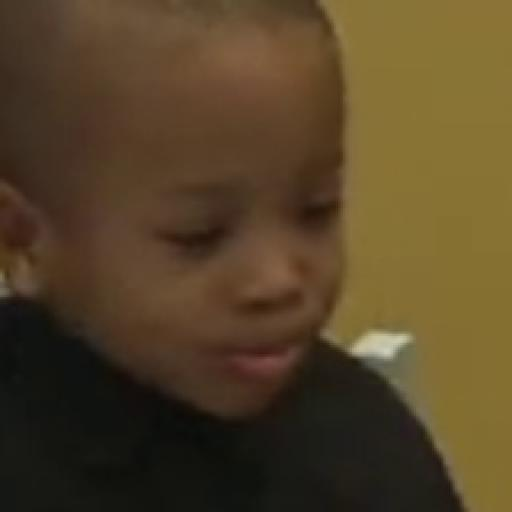Autism: (3, 3, 408, 429)
